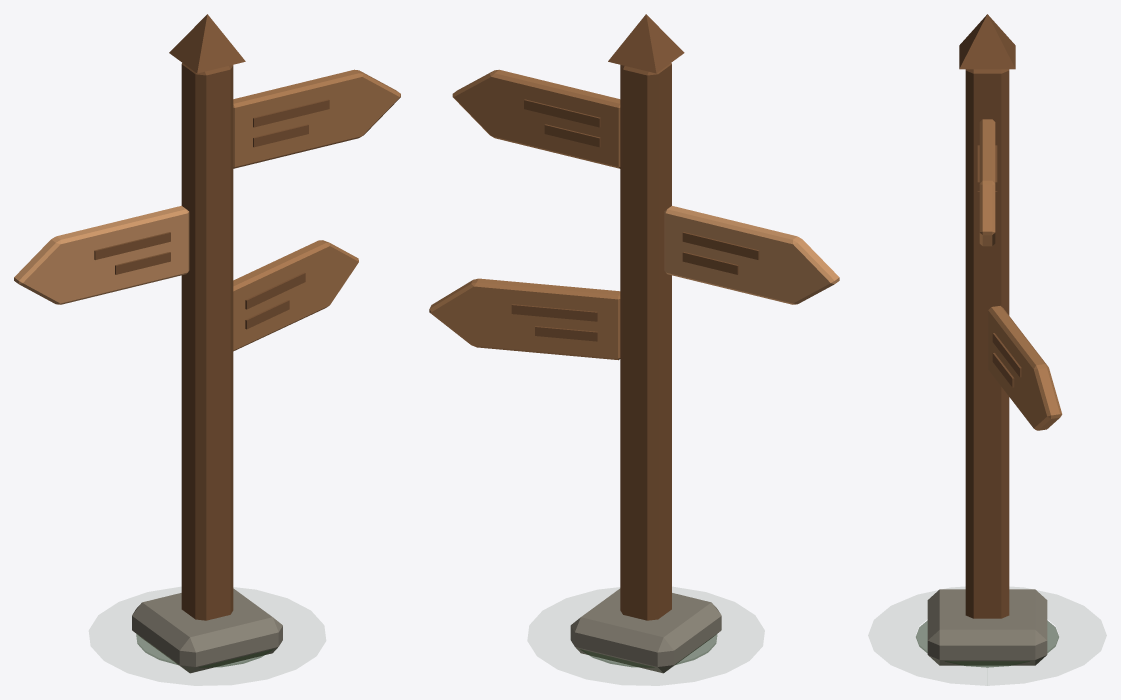
File: signpost.glb
3 renders of one model, left to right at view 1: azimuth 30°, elevation 25°; view 2: azimuth 150°, elevation 25°; view 3: azimuth 270°, elevation 25°, orthographic.
Parts seen in each view (by area): view 1: signpost; view 2: signpost; view 3: signpost.
Part boxes in pixels (x1=…): signpost: x1=14, y1=14, x2=400, y2=673; signpost: x1=429, y1=14, x2=839, y2=673; signpost: x1=915, y1=14, x2=1062, y2=685.
Bounding box in the file's own units: 1.11 × 1.75 × 0.6.
